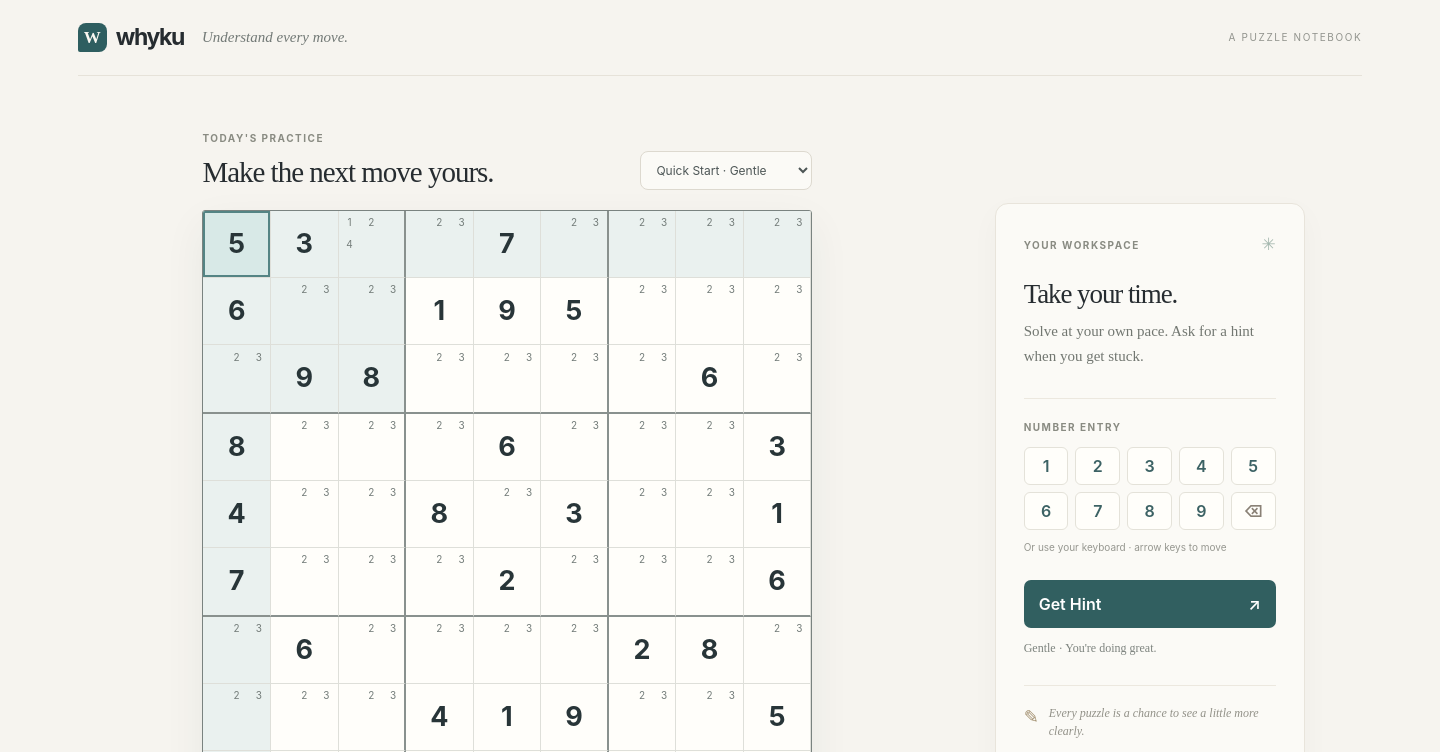
Test: playable grid › erases an editable entry and displays the refreshed backend candidates
Click the cell named "row 1, column 3, empty" at (372, 244), box [338, 211, 406, 278]
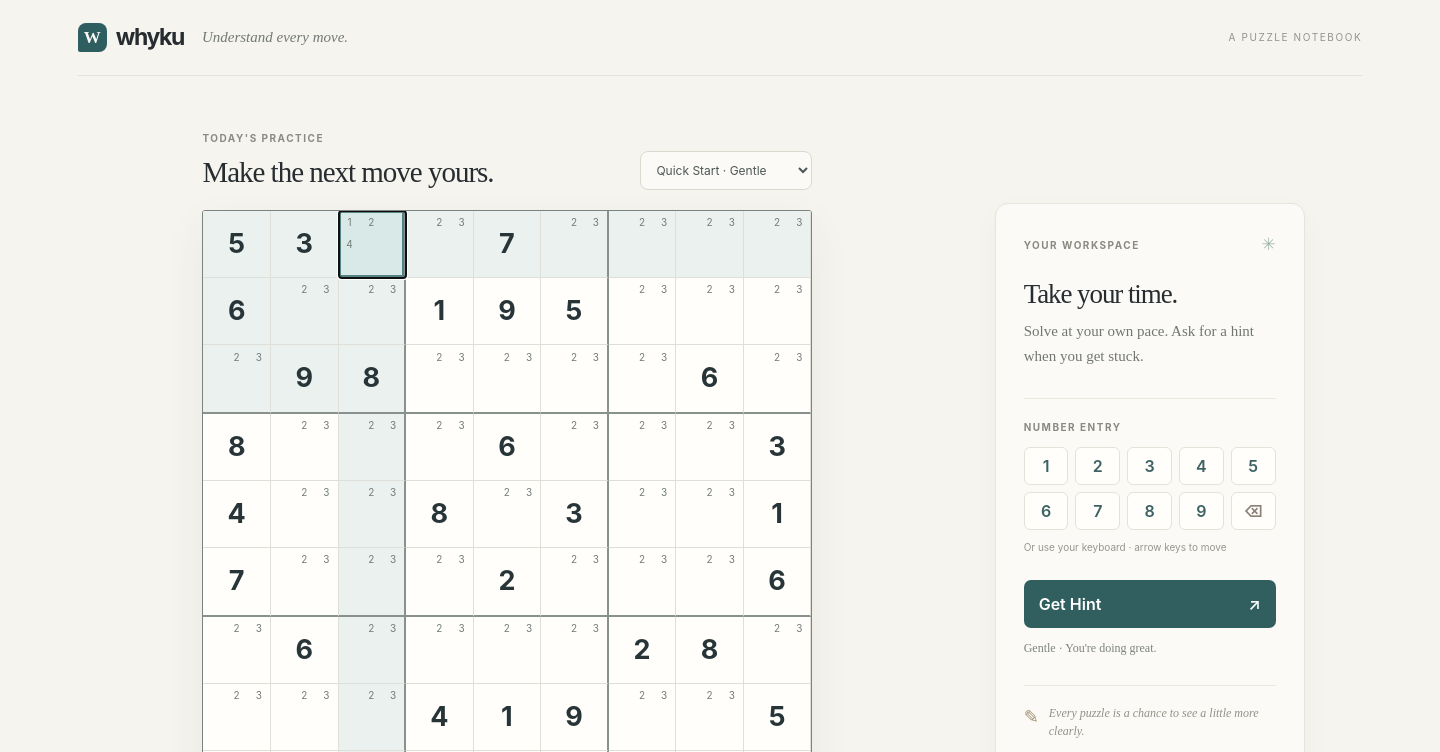
Click the button "4" at (1201, 466), box [1179, 447, 1224, 485]
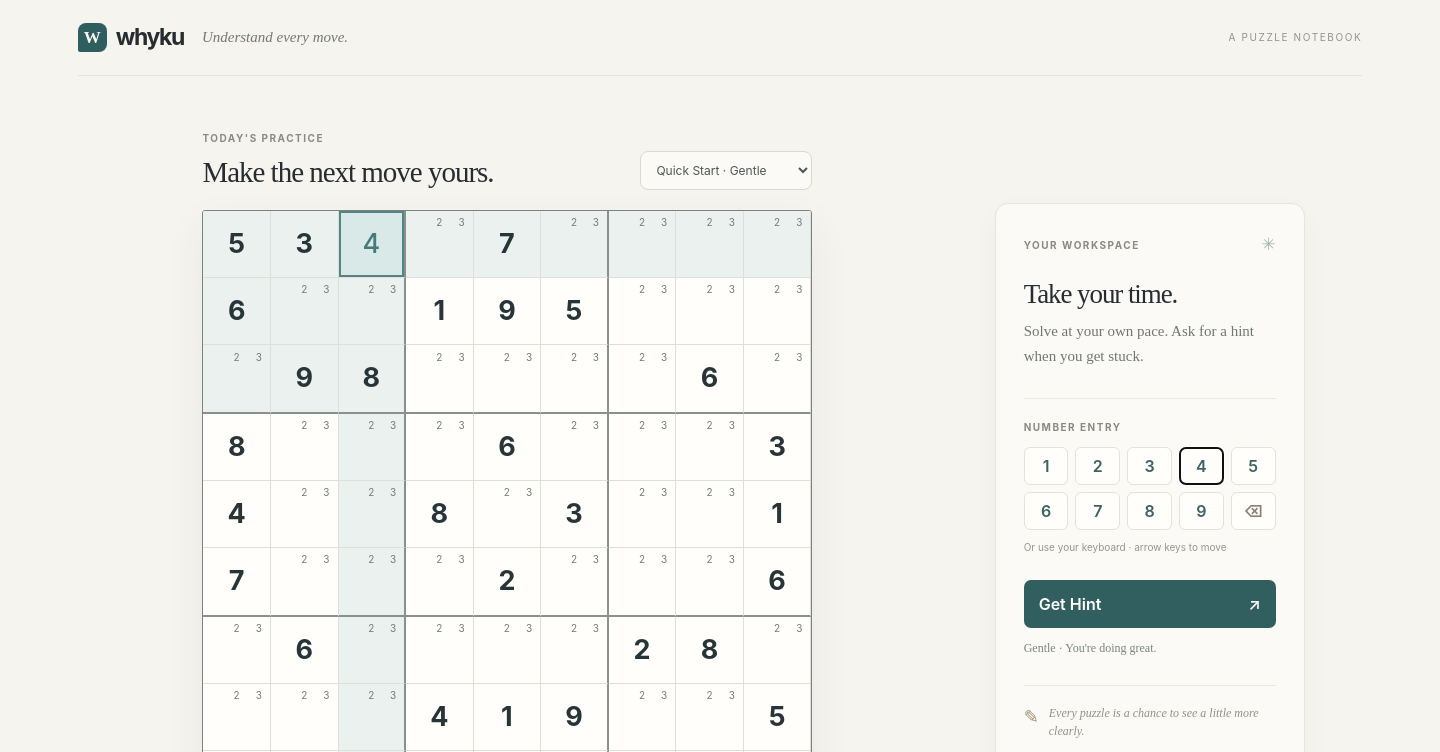
Expected: the cell named "row 1, column 3, empty" reads "4", [338, 211, 406, 278]
Click the button named "erase selected cell" at (1253, 511), box [1231, 492, 1276, 530]
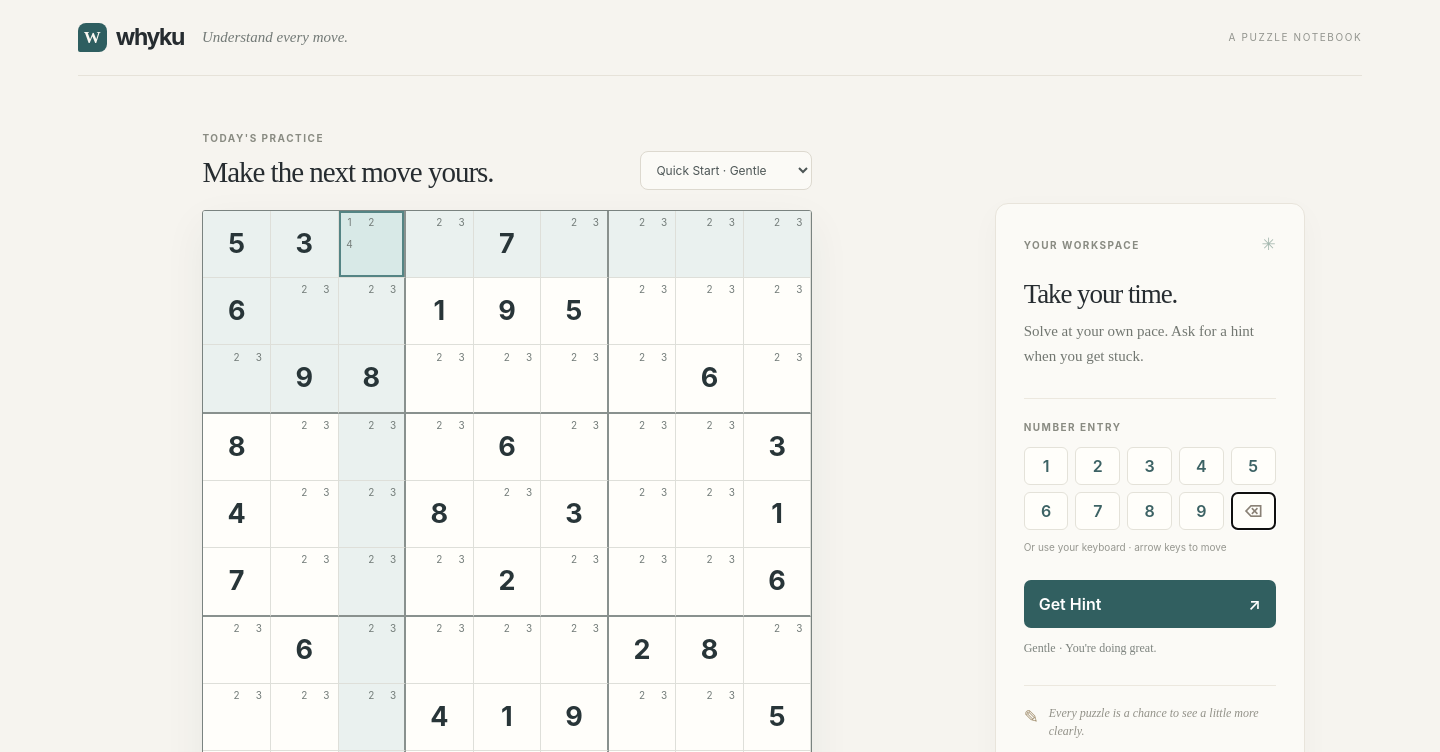
Expected: the cell named "row 1, column 3, empty" shows "4", [338, 211, 406, 278]
Expected: the cell named "row 1, column 3, empty" shows "1", [338, 211, 406, 278]
